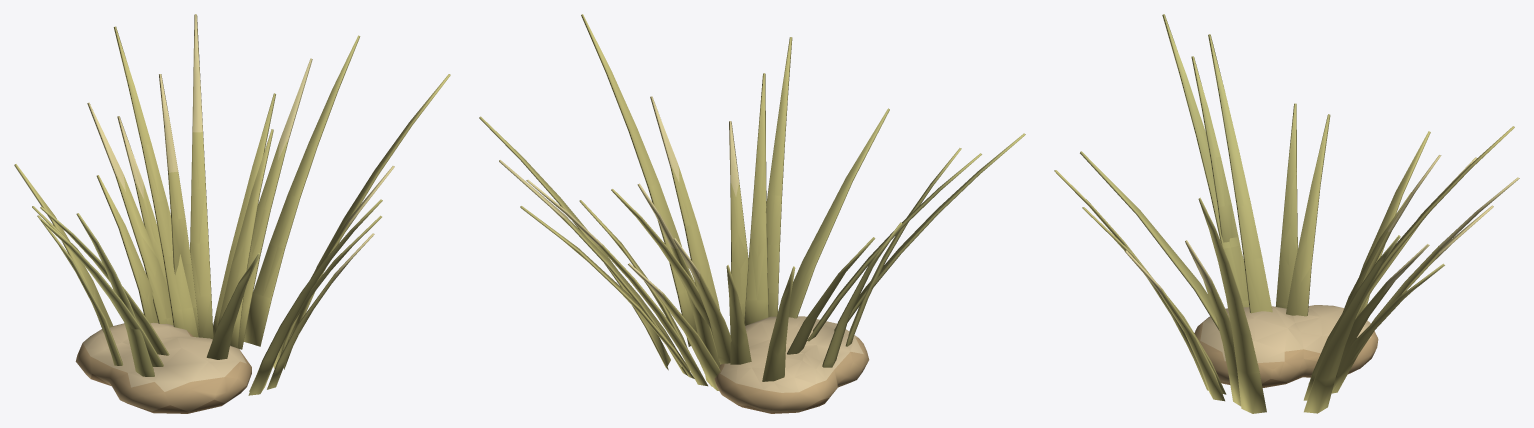
The model's file is shore_marram_b.glb.
The picture shows the model from 3 angles, left to right: view 1: azimuth 30°, elevation 25°; view 2: azimuth 150°, elevation 25°; view 3: azimuth 270°, elevation 25°; orthographic projection. The views are drawn at different scales.
Visible parts, largest first — view 1: shore_marram_b; view 2: shore_marram_b; view 3: shore_marram_b.
Part boxes in pixels (<box>): shore_marram_b: <box>14,14,450,413</box>; shore_marram_b: <box>479,14,1025,413</box>; shore_marram_b: <box>1054,14,1519,413</box>.
Size of the model in its own units: 6.71 by 4.29 by 6.06.
